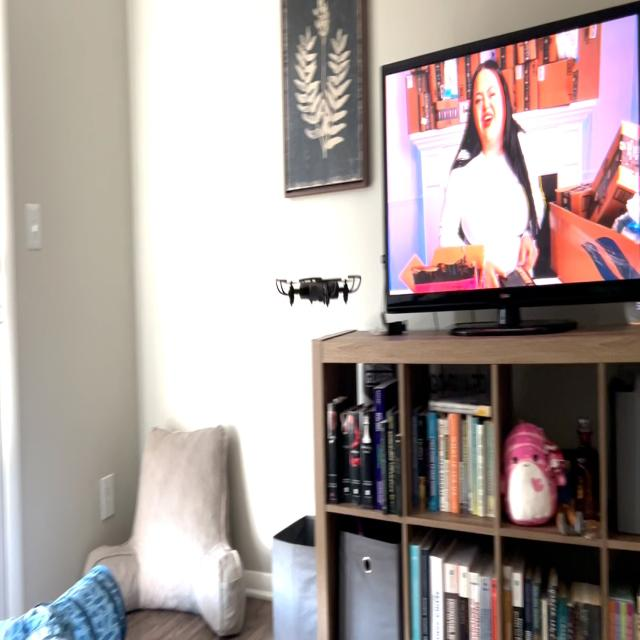drone: (267, 257, 368, 325)
